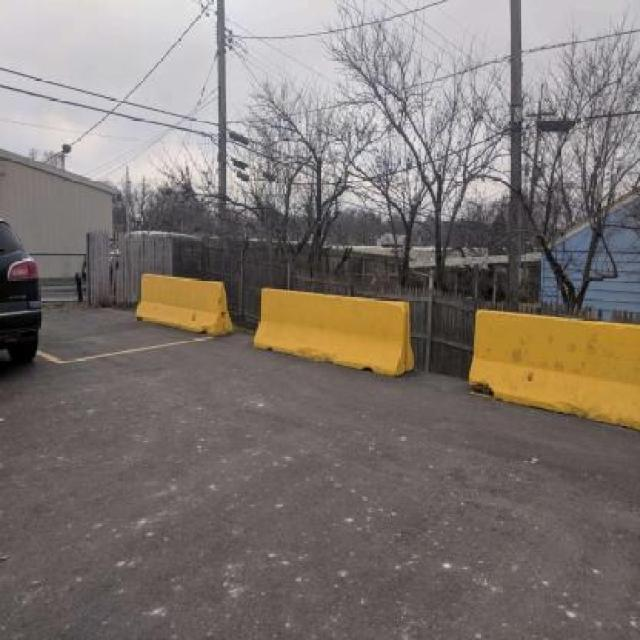fallen_object: (460, 289, 640, 427), (250, 273, 400, 392), (113, 239, 234, 360)
